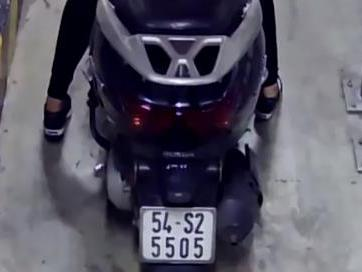num_plate: (138, 206, 215, 262)
